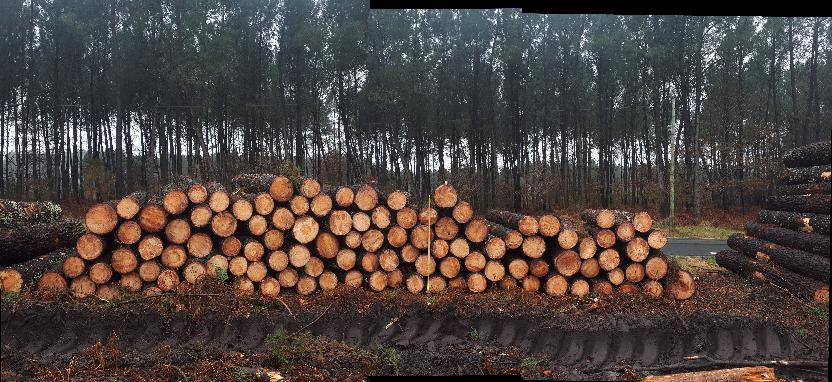etalon: (426, 191, 432, 291)
object: (84, 203, 118, 232), (667, 267, 693, 298), (210, 208, 238, 236), (75, 231, 103, 258), (554, 248, 580, 276), (140, 201, 166, 228), (163, 218, 191, 243), (353, 183, 379, 209), (294, 214, 318, 242), (268, 174, 292, 200), (433, 182, 458, 206), (328, 209, 352, 234), (118, 218, 142, 243), (316, 232, 340, 257), (626, 235, 650, 260), (433, 215, 459, 238), (186, 232, 212, 255), (110, 246, 136, 269), (37, 272, 65, 293), (163, 189, 187, 213), (116, 195, 140, 218), (138, 234, 162, 257), (162, 243, 186, 266), (413, 251, 437, 274), (118, 269, 142, 292), (60, 254, 86, 275), (464, 217, 488, 239), (522, 234, 546, 256), (90, 261, 114, 283), (411, 222, 431, 248), (538, 212, 560, 235), (335, 245, 357, 268), (372, 202, 392, 227), (70, 275, 96, 294), (231, 198, 253, 220), (287, 244, 309, 266), (139, 258, 161, 280), (310, 192, 330, 216), (254, 191, 275, 213), (484, 235, 506, 256), (600, 246, 620, 269), (378, 246, 398, 269), (464, 251, 487, 271), (647, 255, 667, 278), (191, 203, 211, 225), (396, 206, 416, 228), (274, 207, 294, 229), (516, 213, 538, 233), (388, 225, 408, 247), (362, 228, 384, 248), (508, 256, 528, 278), (485, 258, 505, 280), (185, 261, 205, 283), (453, 199, 472, 222), (351, 209, 371, 230), (632, 209, 652, 230), (244, 238, 264, 259), (268, 248, 288, 269), (580, 256, 600, 277), (157, 267, 177, 288), (546, 272, 566, 293), (369, 268, 387, 291), (300, 176, 320, 196), (187, 182, 207, 202), (208, 189, 228, 209), (290, 193, 310, 213), (264, 229, 284, 249), (430, 237, 450, 257), (304, 255, 324, 275), (439, 255, 459, 275), (247, 260, 267, 280), (247, 214, 268, 233), (208, 255, 226, 277), (595, 207, 615, 226), (450, 236, 470, 255), (361, 251, 381, 270), (466, 271, 486, 290), (296, 274, 316, 293), (233, 276, 253, 295), (401, 240, 419, 261), (336, 186, 354, 206), (387, 189, 407, 207), (558, 229, 578, 247), (578, 236, 596, 256), (228, 254, 246, 274), (529, 259, 549, 277), (626, 262, 644, 282), (96, 283, 120, 298), (616, 219, 634, 238), (279, 267, 297, 286), (406, 271, 424, 290), (260, 275, 278, 294), (596, 228, 616, 245), (648, 229, 668, 246), (221, 237, 241, 254), (418, 205, 437, 222), (644, 279, 663, 296), (606, 265, 624, 282), (344, 269, 362, 286), (319, 271, 337, 288), (522, 273, 540, 290), (506, 230, 522, 248), (345, 228, 361, 245), (429, 274, 445, 291), (572, 278, 588, 295), (388, 265, 402, 284), (594, 280, 613, 293), (500, 273, 516, 288), (447, 275, 466, 286), (618, 282, 636, 293), (143, 284, 161, 295), (176, 282, 192, 291)
pile: (34, 171, 698, 300)
